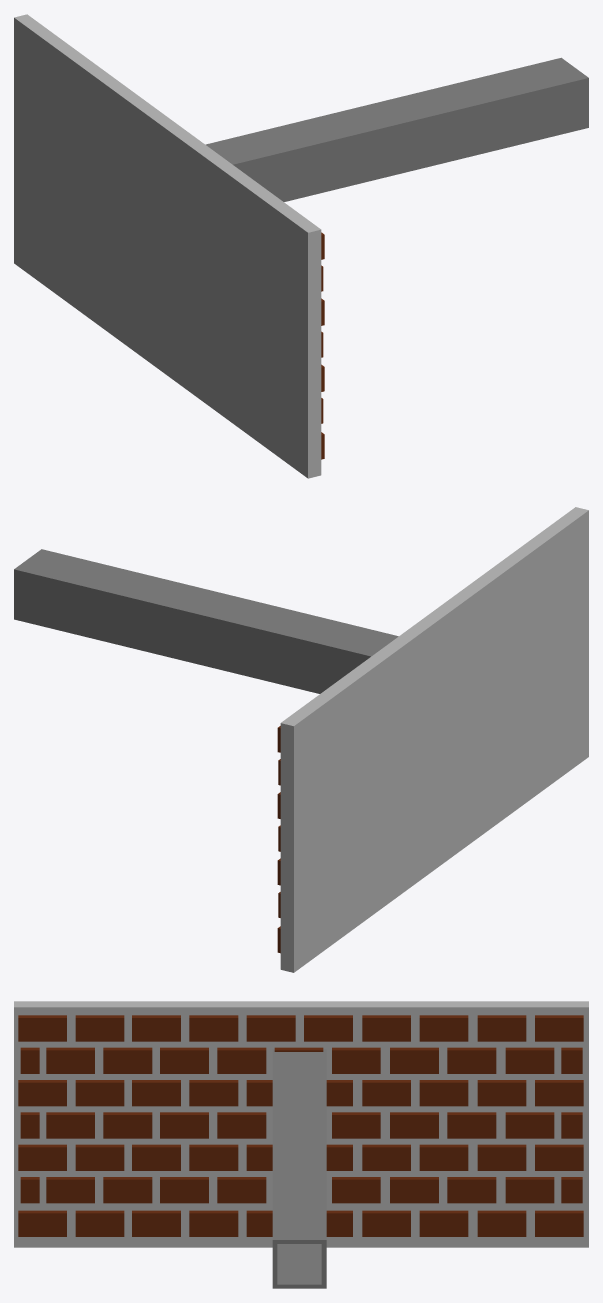
The model's file is Modelo (Perlin Cuadrado, Muro).fbx.
The picture shows the model from 3 angles, top to bottom: view 1: azimuth 30°, elevation 25°; view 2: azimuth 150°, elevation 25°; view 3: azimuth 270°, elevation 25°; orthographic projection. The views are drawn at different scales.
Parts seen in each view (by area): view 1: Muro Completo, Perlin Cuadrado.002; view 2: Muro Completo, Perlin Cuadrado.002; view 3: Muro Completo, Perlin Cuadrado.002.
Boxes of the visible parts, x1,y1,x2,y2 form: Muro Completo: (14, 14, 324, 478); Perlin Cuadrado.002: (205, 57, 588, 201); Muro Completo: (277, 507, 588, 972); Perlin Cuadrado.002: (14, 549, 398, 693); Muro Completo: (14, 1001, 588, 1247); Perlin Cuadrado.002: (272, 1049, 326, 1288).
Bounding box in the file's own units: 1038 × 590 × 1279.
